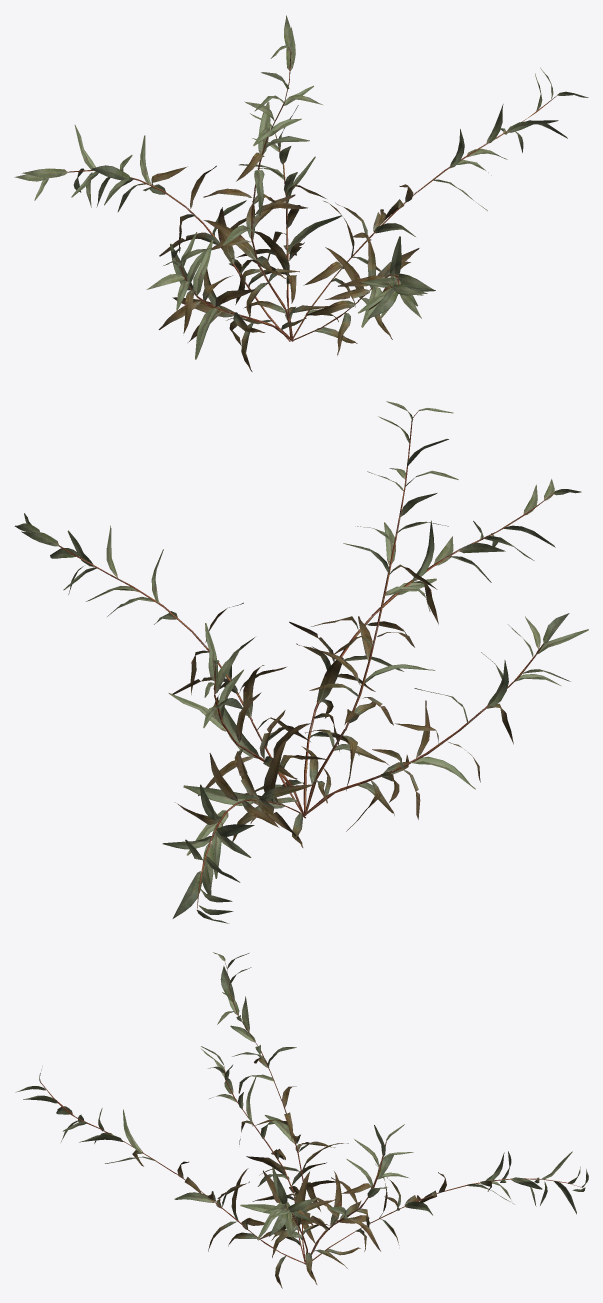
The model's file is shrub_02_c.gltf.lod.glb.
3 views of the same model, one above another, from view 1: azimuth 30°, elevation 25°; view 2: azimuth 150°, elevation 25°; view 3: azimuth 270°, elevation 25° (orthographic). The views are drawn at different scales.
Parts seen in each view (by area): view 1: shrub_02_c; view 2: shrub_02_c; view 3: shrub_02_c.
Boxes of the visible parts, x1,y1,x2,y2 form: shrub_02_c: (14,15,588,371); shrub_02_c: (14,401,588,923); shrub_02_c: (15,952,588,1288).
Size of the model in its own units: 1.77 by 1.32 by 2.29.
Materials: 1 (1 with a texture image).
